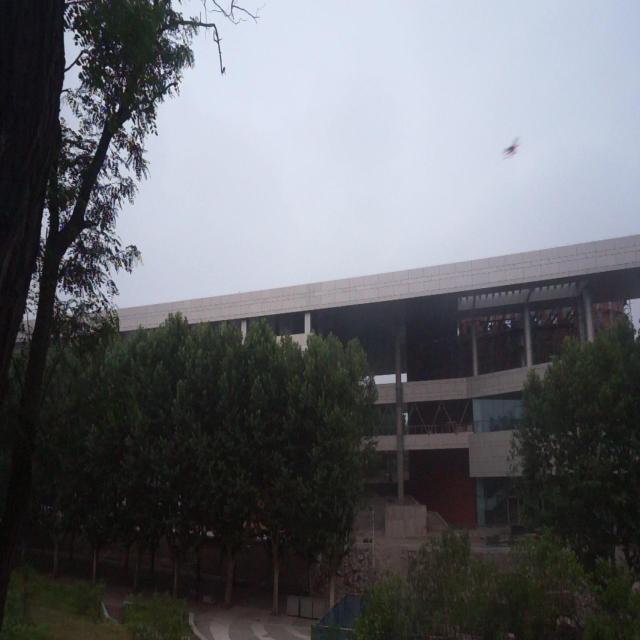drone: (499, 132, 521, 160)
